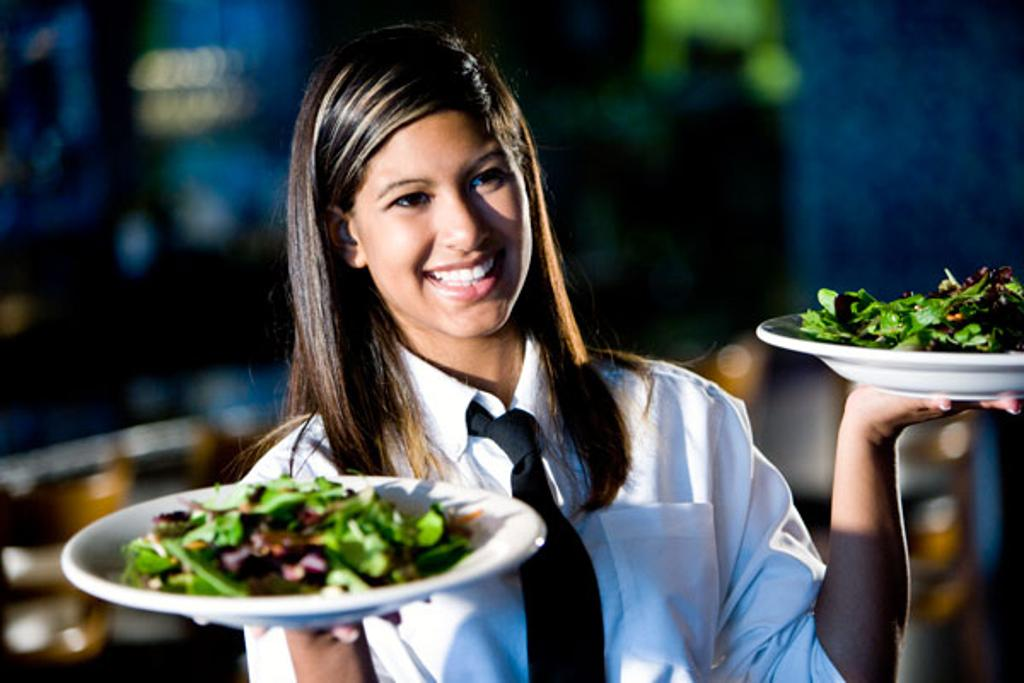face: (362, 108, 534, 336)
